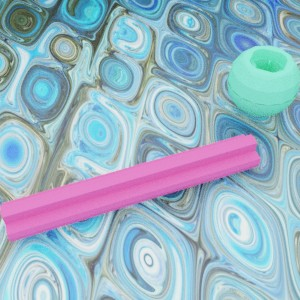lego: (0, 134, 260, 242), (227, 45, 300, 116)
